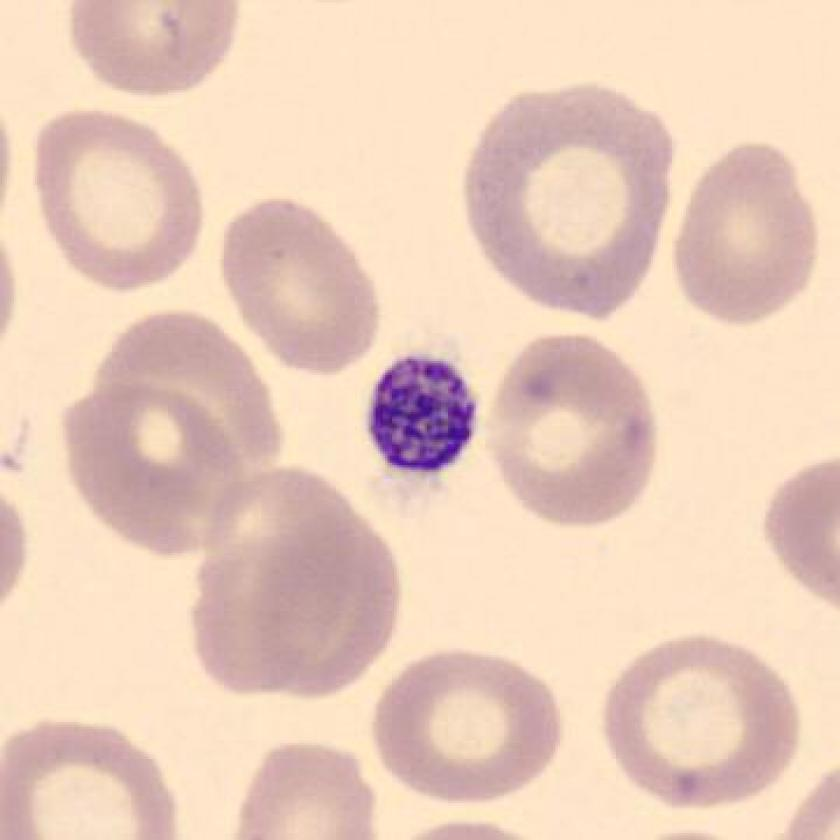platelets: (356, 341, 491, 489)
